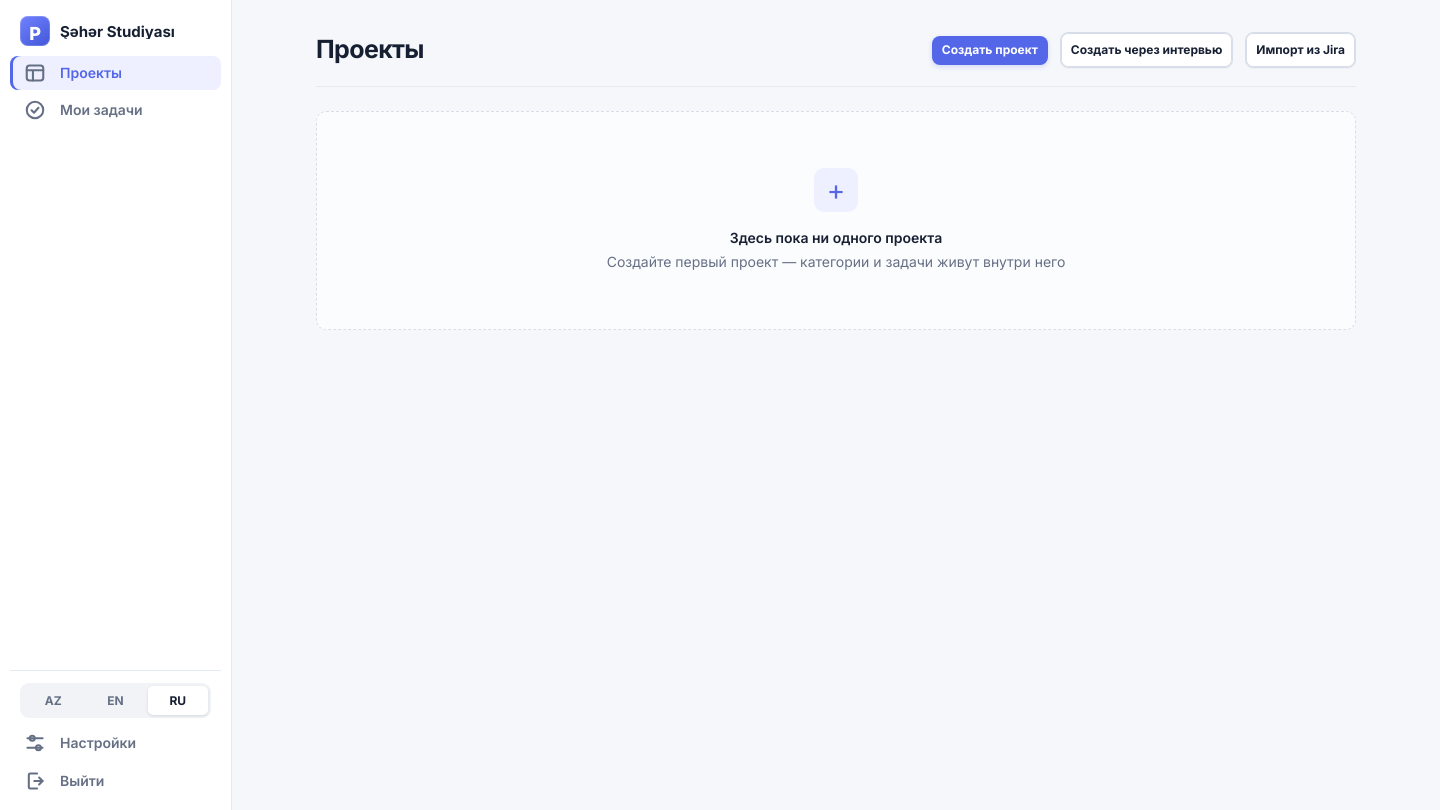
экран проектов › объясняет отказ сервера переведённым текстом
Click the button "Создать проект": {"x": 990, "y": 50} [932,36,1048,64]
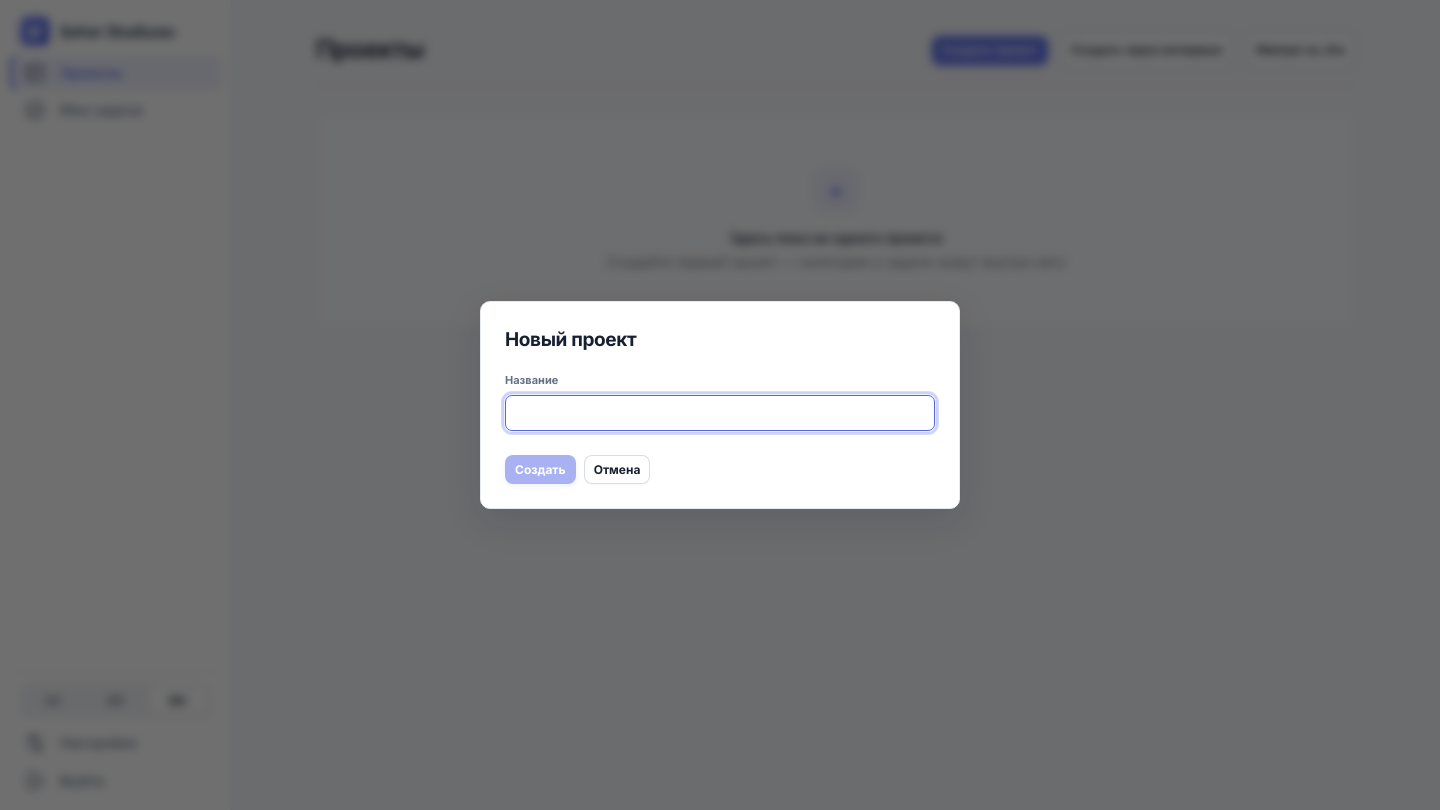
In the field labelled "Название": {"x": 720, "y": 413} [505,395,935,431], type "Тест"
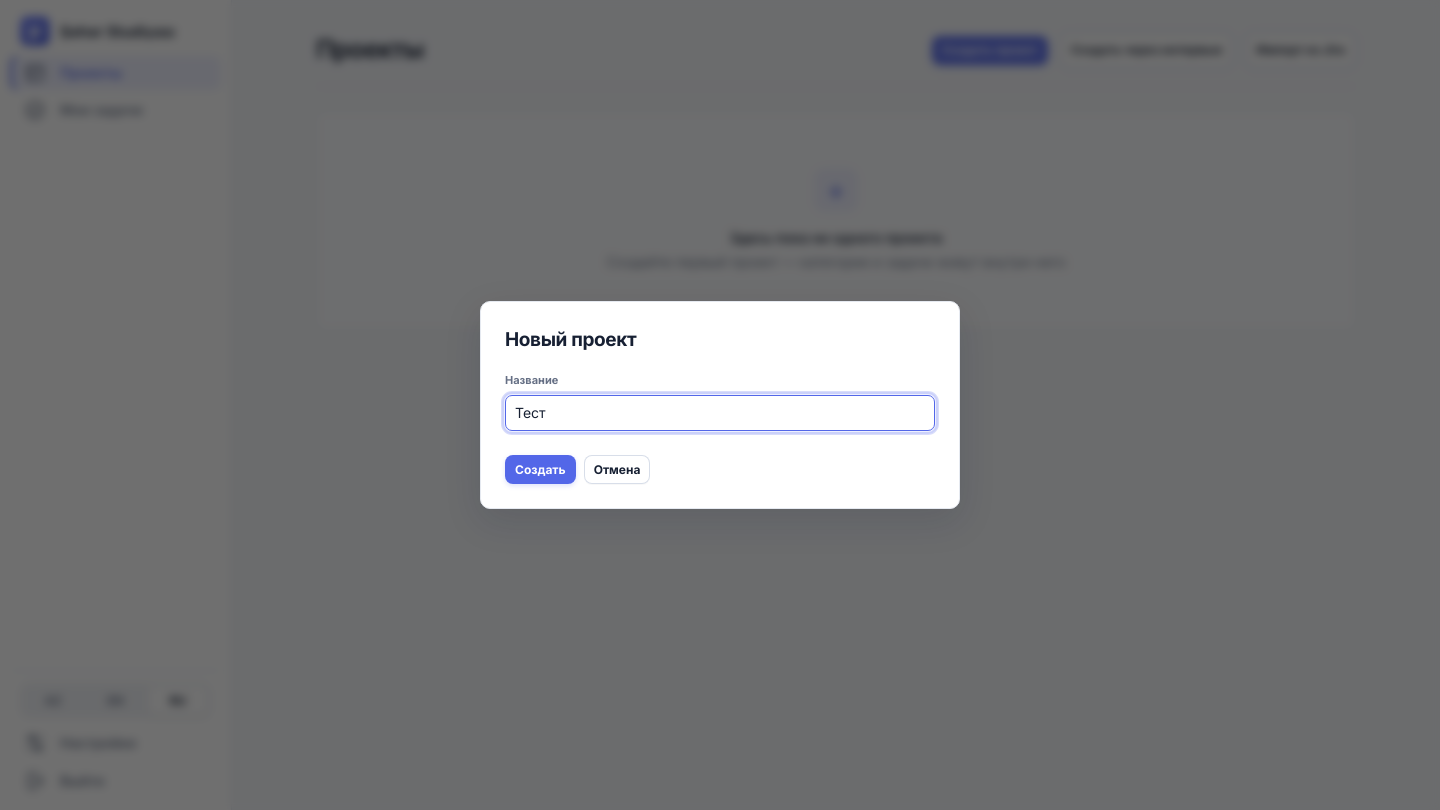
Click the button "Создать": {"x": 540, "y": 470} [505,455,576,484]
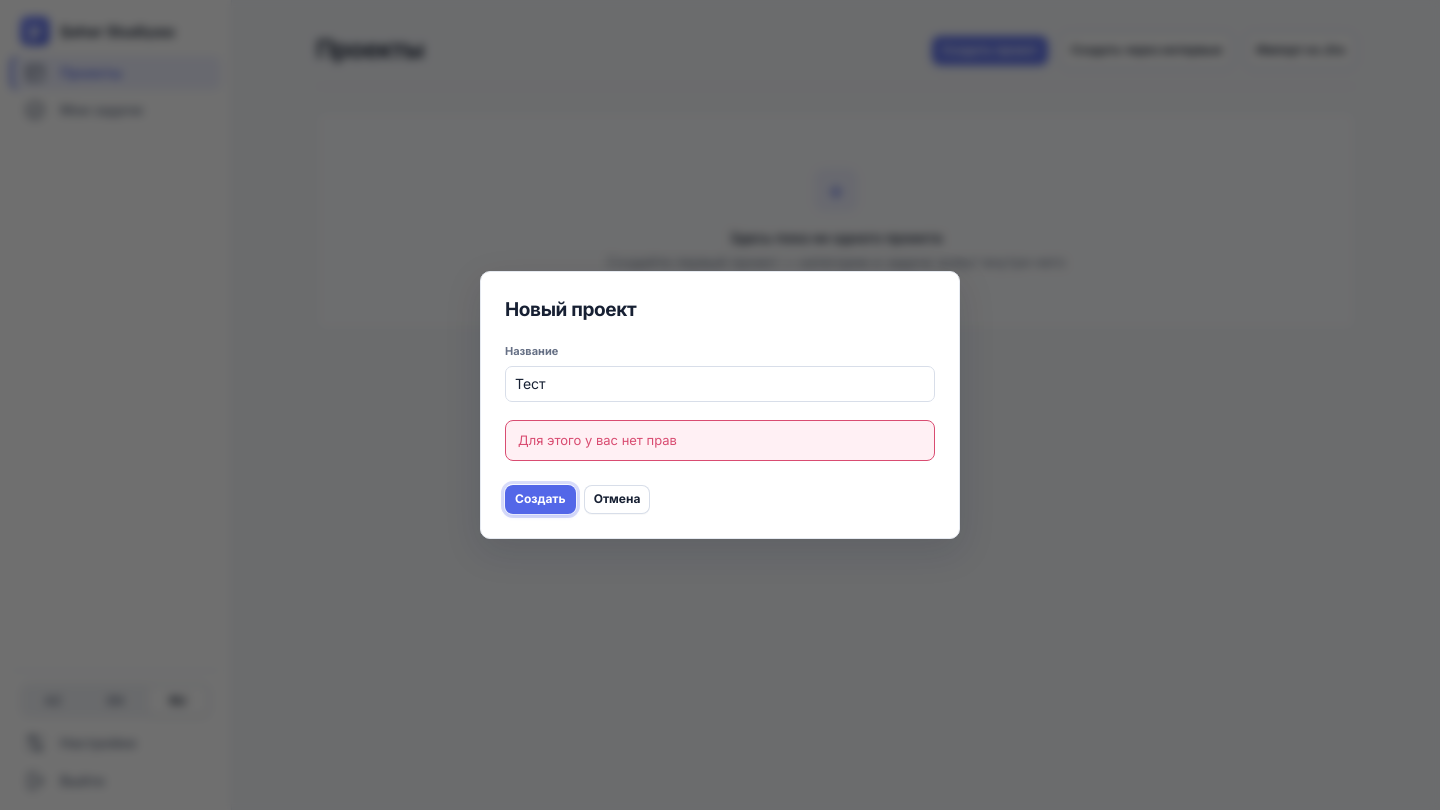
Now the text "Для этого у вас нет прав" is shown, box [505,420,935,461]
